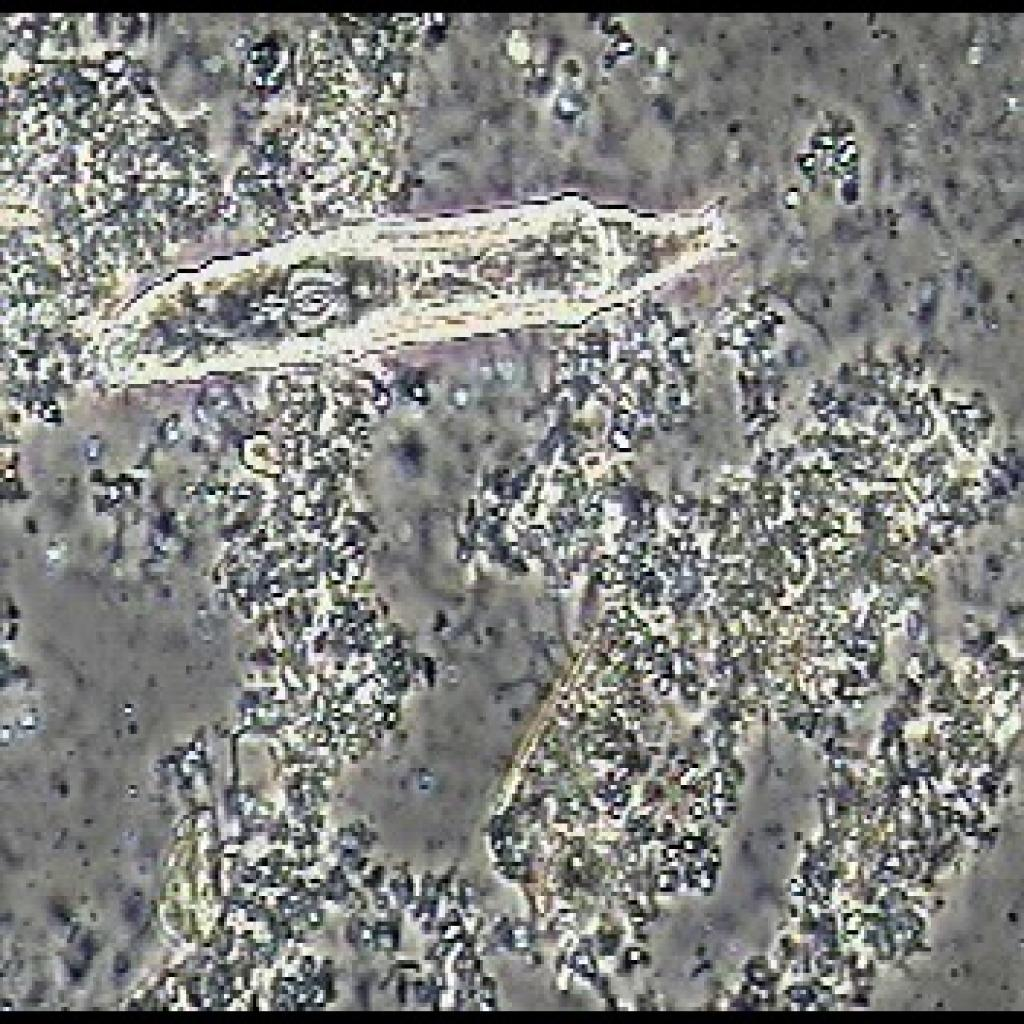Rotatoria: (58, 184, 768, 388)
